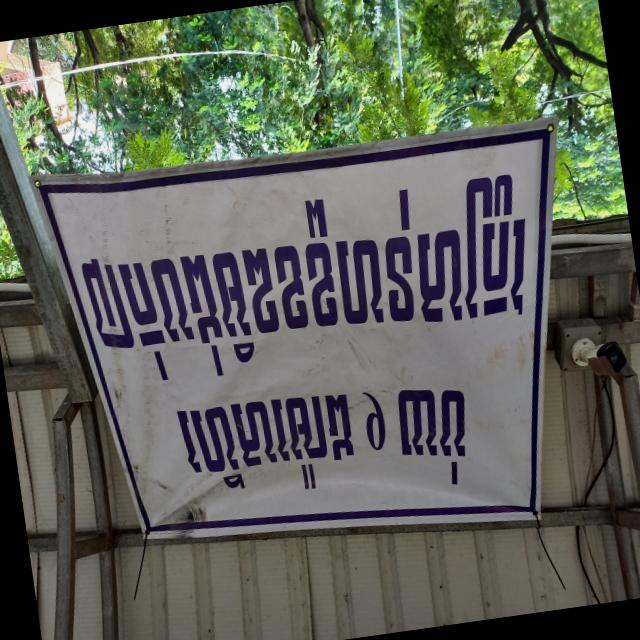81: (168, 379, 481, 512)
Yolov11kh: (69, 163, 535, 392)
